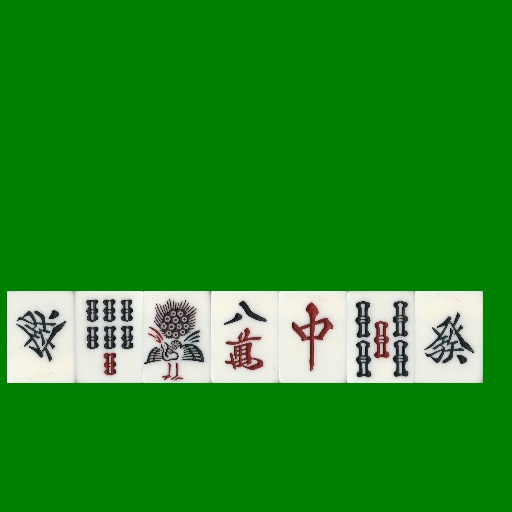1s: (143, 291, 211, 383)
5s: (347, 291, 415, 383)
7s: (75, 291, 143, 383)
8m: (211, 291, 279, 383)
hatsu: (7, 291, 75, 383), (415, 291, 483, 383)
tyun: (279, 291, 347, 383)
